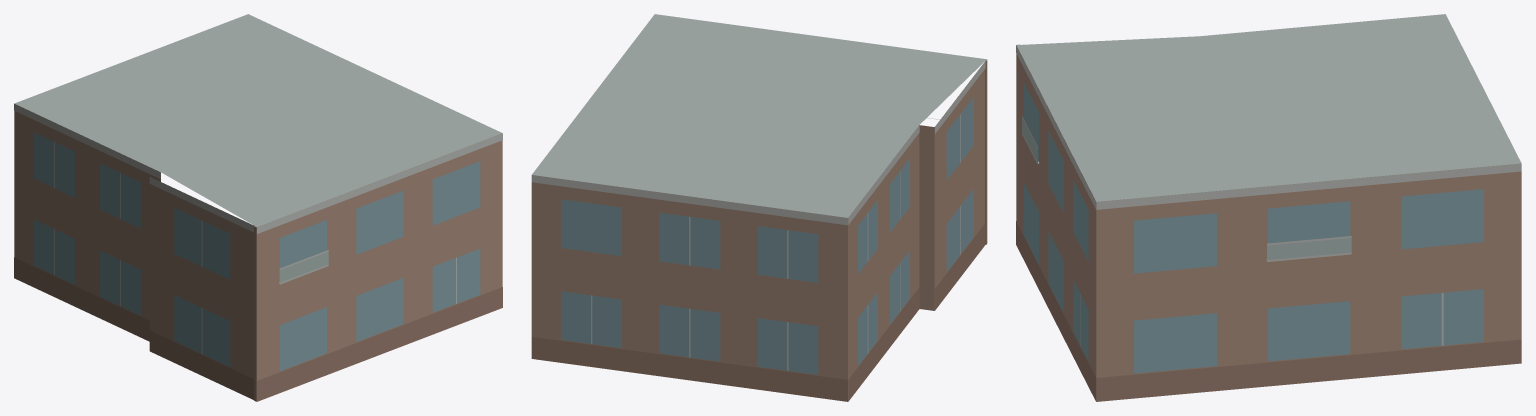
Rendered from survey-upis-32707289.glb.
3 renders of one model, left to right at view 1: azimuth 30°, elevation 25°; view 2: azimuth 150°, elevation 25°; view 3: azimuth 270°, elevation 25°, orthographic. The views are drawn at different scales.
Visible parts, largest first — view 1: survey-upis-32707289.tmp; view 2: survey-upis-32707289.tmp; view 3: survey-upis-32707289.tmp.
Part boxes in pixels (x1,y1,x2,y2): survey-upis-32707289.tmp: [14, 14, 502, 401]; survey-upis-32707289.tmp: [531, 14, 987, 401]; survey-upis-32707289.tmp: [1016, 14, 1521, 401].
Bounding box in the file's own units: 12.3 × 6.1 × 13.99.
